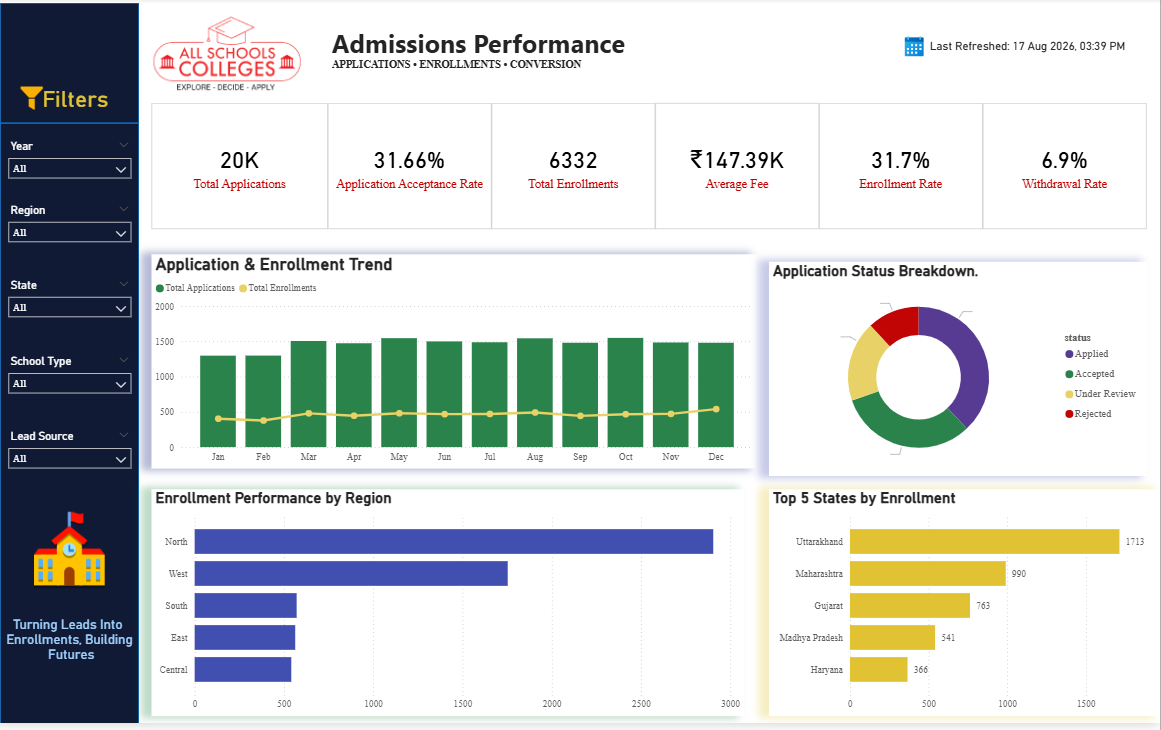

The dashboard page shown, as its layout file describes it:
{"tool":"powerbi","page":{"name":"Admission Performance","canvas":[1480,920],"ordinal":1},"visuals":[{"type":"shape","box":[7.7,6.8,176,928],"z":0},{"type":"card","fields":{"Values":["KPI_Measures.Total Applications"]},"box":[199.7,133.3,224,160],"z":1000},{"type":"card","fields":{"Values":["KPI_Measures.Application Acceptance Rate"]},"box":[423.7,133.3,208,160],"z":2000},{"type":"card","fields":{"Values":["KPI_Measures.Total Enrollments"]},"box":[631.7,133.3,208,160],"z":3000},{"type":"card","fields":{"Values":["KPI_Measures.Average Fee"]},"box":[839.7,133.3,208,160],"z":4000},{"type":"card","fields":{"Values":["KPI_Measures.Enrollment Rate"]},"box":[1047.7,133.3,208,160],"z":5000},{"type":"lineClusteredColumnComboChart","title":"Application & Enrollment Trend","fields":{"Category":["Dim_Date.Month"],"Y":["KPI_Measures.Total Applications"],"Y2":["KPI_Measures.Total Enrollments"]},"box":[199.7,325.3,768,272],"z":6000},{"type":"donutChart","title":"Application Status Breakdown.","fields":{"Y":["KPI_Measures.Total Applications"],"Category":["fact_applications.status"]},"box":[983.7,334.8,480,272],"z":7000},{"type":"clusteredBarChart","title":"Enrollment Performance by Region","fields":{"Category":["dim_school.region"],"Y":["KPI_Measures.Total Enrollments"]},"box":[199.7,622.8,752,288],"z":8000},{"type":"clusteredBarChart","title":"Top 5 States by Enrollment","fields":{"Category":["dim_school.State"],"Y":["KPI_Measures.Total Enrollments"]},"box":[983.7,622.8,496,288],"z":9000},{"type":"image","box":[23.7,110.8,48,32],"z":10000},{"type":"card","fields":{"Values":["KPI_Measures.filter"]},"box":[39.7,110.8,128,32],"z":11000},{"type":"shape","box":[7.7,142.8,176,32],"z":12000},{"type":"card","fields":{"Values":["KPI_Measures.Withdrawal Rate"]},"box":[1255.7,133.3,208,160],"z":13000},{"type":"slicer","fields":{"Values":["Dim_Date.Year"]},"box":[7.7,174.8,176,64],"z":14000},{"type":"slicer","fields":{"Values":["dim_school.region"]},"box":[7.7,254.8,176,64],"z":15000},{"type":"slicer","fields":{"Values":["dim_school.state"]},"box":[7.7,350.8,176,64],"z":16000},{"type":"slicer","fields":{"Values":["dim_school.school_type"]},"box":[7.7,446.8,176,64],"z":17000},{"type":"slicer","fields":{"Values":["fact_leads.lead_source"]},"box":[7.7,542.8,176,64],"z":18000},{"type":"image","box":[39.7,622.8,112,160],"z":19000},{"type":"image","box":[199.7,14.8,192,112],"z":20000},{"type":"textbox","box":[423.7,30.8,592,96],"z":21000},{"type":"card","fields":{"Values":["KPI_Measures.Last Refresh"]},"box":[1159.7,30.8,304,64],"z":22000},{"type":"image","box":[1143.7,46.8,48,32],"z":23000},{"type":"card","fields":{"Values":["KPI_Measures.Quote"]},"box":[7.7,766.8,176,96],"z":24000}]}

Visuals, with their boxes in screenshot pixels (x1, y1, x2, y2), scaled from the page's 1480x920 canvas onto the 1161x730 screenshot:
shape: locate(6, 5, 144, 729)
card - KPI_Measures.Total Applications: locate(157, 106, 332, 233)
card - KPI_Measures.Application Acceptance Rate: locate(332, 106, 496, 233)
card - KPI_Measures.Total Enrollments: locate(496, 106, 659, 233)
card - KPI_Measures.Average Fee: locate(659, 106, 822, 233)
card - KPI_Measures.Enrollment Rate: locate(822, 106, 985, 233)
"Application & Enrollment Trend" lineClusteredColumnComboChart: locate(157, 258, 759, 474)
"Application Status Breakdown." donutChart: locate(772, 266, 1148, 481)
"Enrollment Performance by Region" clusteredBarChart: locate(157, 494, 747, 723)
"Top 5 States by Enrollment" clusteredBarChart: locate(772, 494, 1160, 723)
image: locate(19, 88, 56, 113)
card - KPI_Measures.filter: locate(31, 88, 132, 113)
shape: locate(6, 113, 144, 139)
card - KPI_Measures.Withdrawal Rate: locate(985, 106, 1148, 233)
slicer - Dim_Date.Year: locate(6, 139, 144, 189)
slicer - dim_school.region: locate(6, 202, 144, 253)
slicer - dim_school.state: locate(6, 278, 144, 329)
slicer - dim_school.school_type: locate(6, 355, 144, 405)
slicer - fact_leads.lead_source: locate(6, 431, 144, 481)
image: locate(31, 494, 119, 621)
image: locate(157, 12, 307, 101)
textbox: locate(332, 24, 797, 101)
card - KPI_Measures.Last Refresh: locate(910, 24, 1148, 75)
image: locate(897, 37, 935, 63)
card - KPI_Measures.Quote: locate(6, 608, 144, 685)
